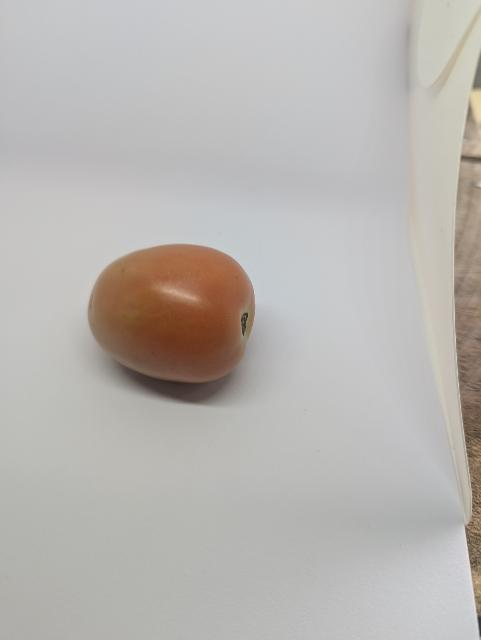turning: (79, 243, 280, 409)
